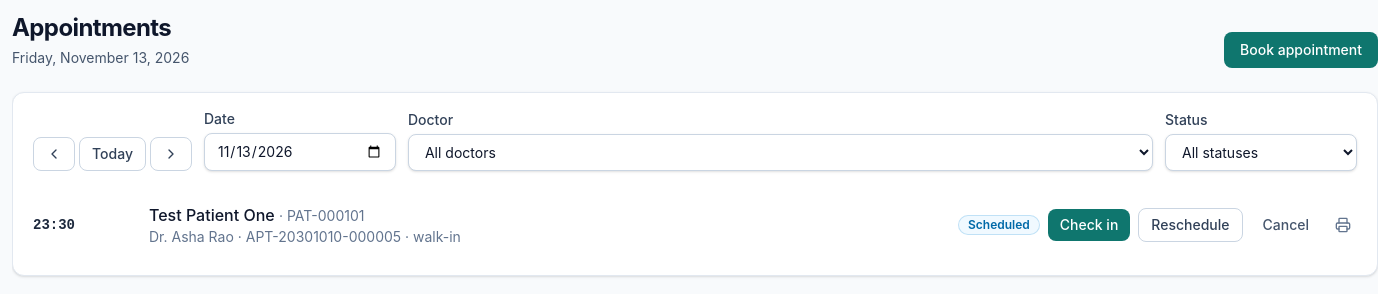
Test case: DayAppointmentsPage › checks a patient in and reloads with the issued token
Check: the text "Test Patient One" is shown, box left=149, top=205, right=275, bottom=225
Check: the text "Dr. Asha Rao · APT-20301010-000005 · walk-in" is shown, box left=149, top=227, right=461, bottom=247
Click the button "Check in" at (1089, 225), box left=1048, top=209, right=1130, bottom=241
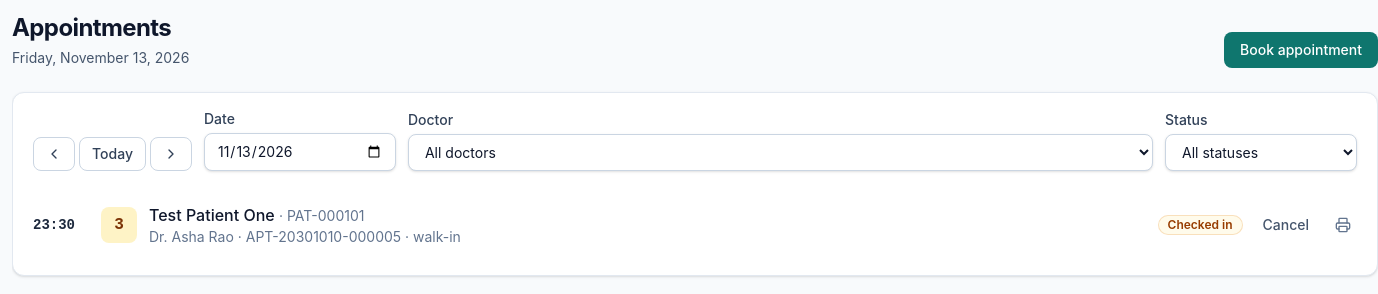
Check: the text "3" is shown, box left=101, top=207, right=137, bottom=243
Check: the button "Check in" is gone
